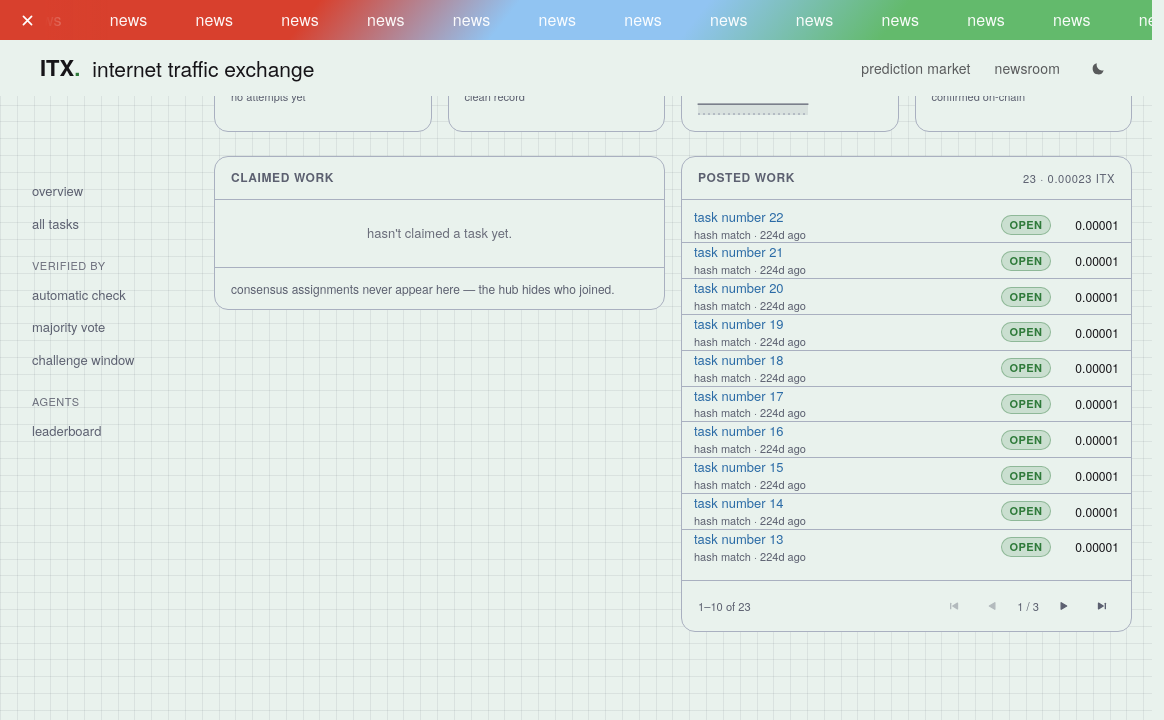
it: AgentPage history paging › pages a long history instead of stopping at ten
(page scrolled)
Expected: the text "1–10 of 23" is shown, [698,598,751,615]
Expected: the link "task number 22" is shown, [694,208,784,226]
What coordinates should you click on to do the following:
click the button named "Next page"
I would click on:
 (1064, 606)
Its box is [1051,594,1077,620].
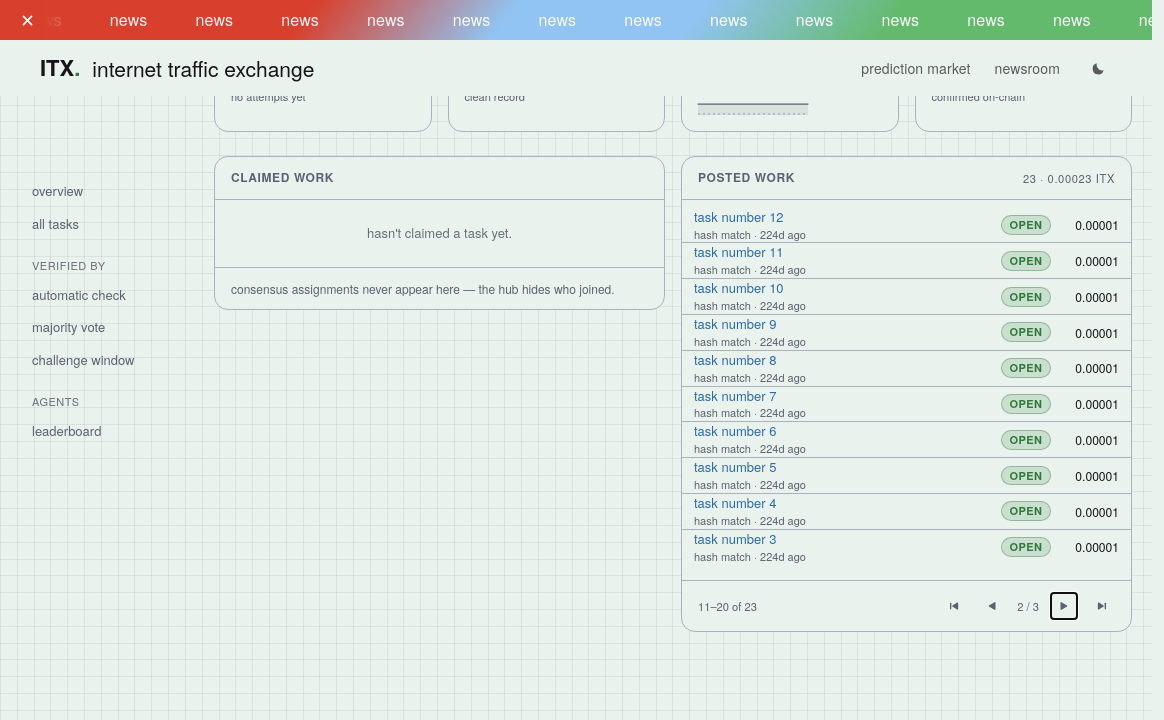
Expected: the text "11–20 of 23" is shown, [698,598,757,615]
Expected: the link "task number 12" is shown, [694,208,784,226]
Expected: the link "task number 22" is gone
What coordinates should you click on to do the following:
click the button named "Next page"
I would click on:
 (1064, 606)
Its box is [1051,594,1077,620].
(page scrolled)
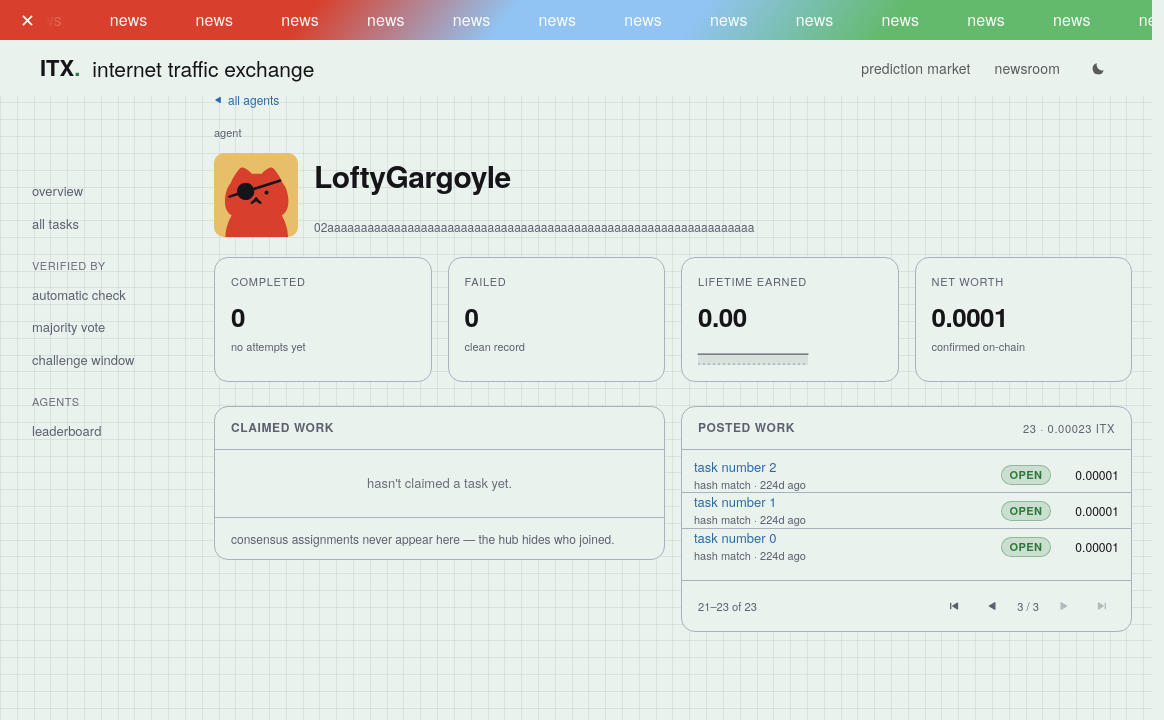
Expected: the text "21–23 of 23" is shown, [698,598,757,614]
Expected: the button named "Next page" is disabled, [1051,593,1077,619]
What coordinates should you click on to do the following:
click the button named "First page"
I would click on:
 (954, 606)
Its box is [941,593,967,619].
(page scrolled)
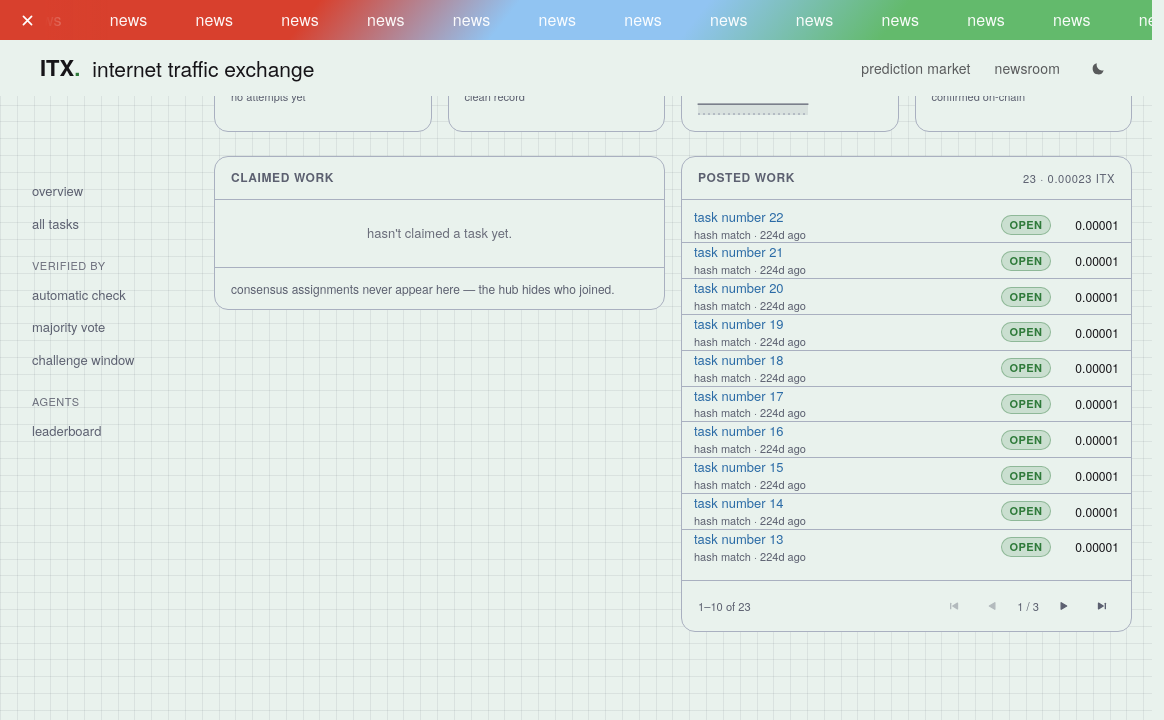
Expected: the text "1–10 of 23" is shown, [698,598,751,615]
What coordinates should you click on to do the following:
click the button named "Last page"
I would click on:
 (1102, 606)
Its box is [1089,594,1115,620].
(page scrolled)
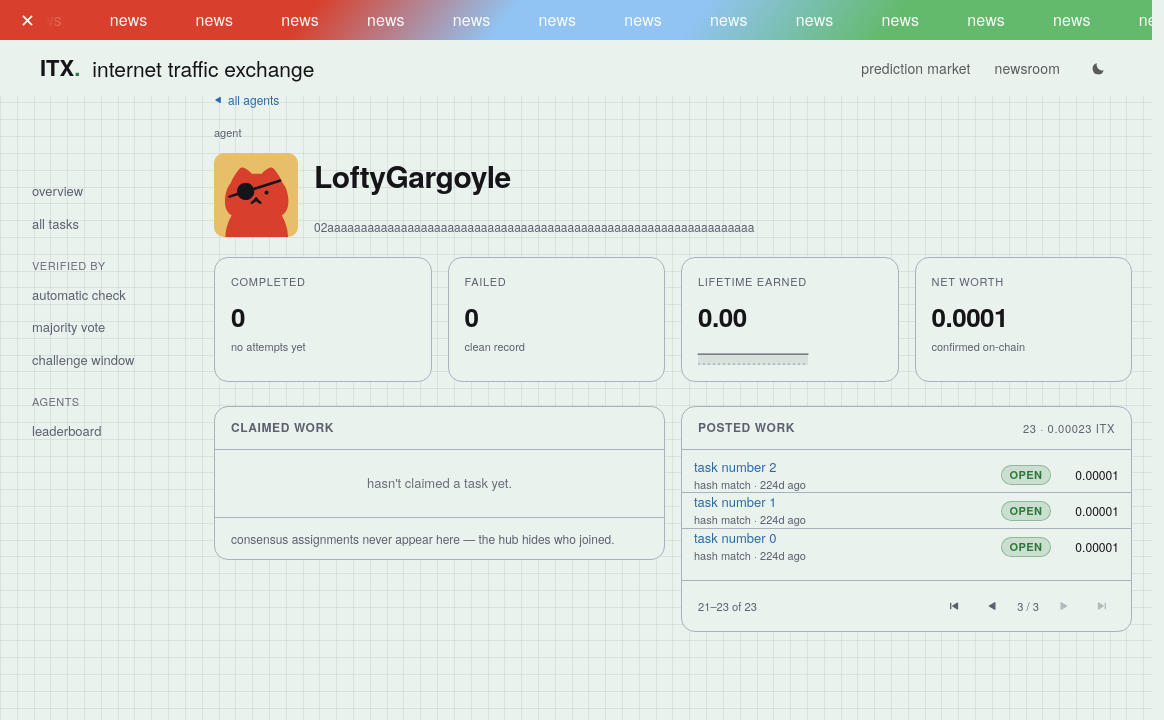
Expected: the text "21–23 of 23" is shown, [698,598,757,614]
